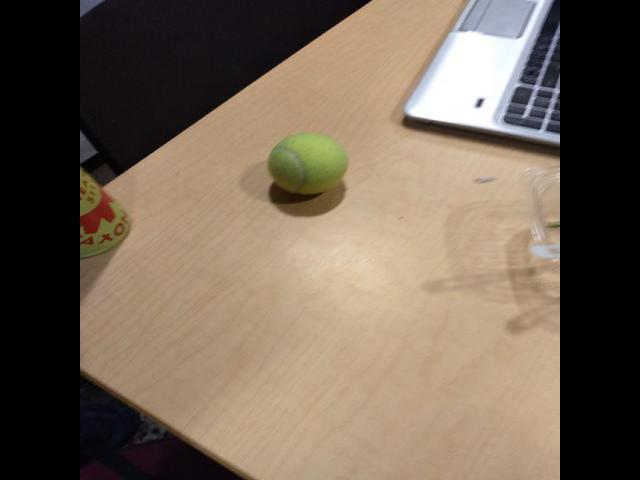tennis-ball: (268, 131, 348, 197)
